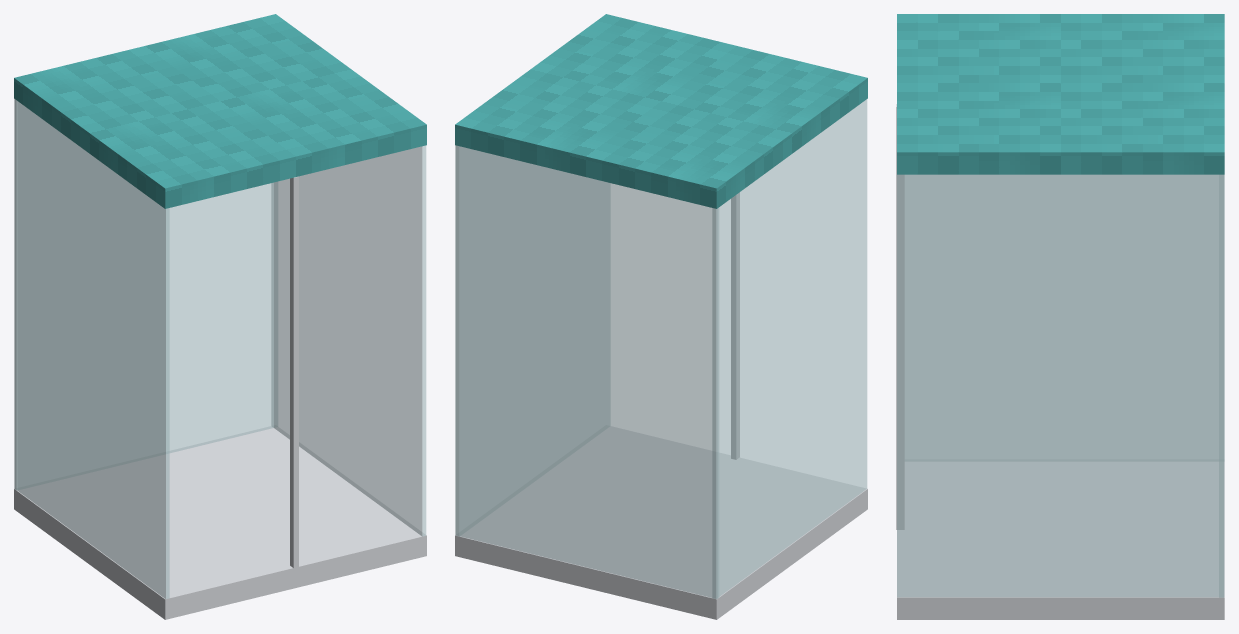
Rendered from retro-arcade-and-mall-1989-glass-elevator-1bf8a428.glb.
3 views of the same model, side by side, from view 1: azimuth 30°, elevation 25°; view 2: azimuth 150°, elevation 25°; view 3: azimuth 270°, elevation 25° (orthographic). The views are drawn at different scales.
Visible parts, largest first — view 1: glass-elevator; view 2: glass-elevator; view 3: glass-elevator.
Boxes of the visible parts, x1,y1,x2,y2 form: glass-elevator: (14, 14, 426, 619); glass-elevator: (455, 14, 867, 619); glass-elevator: (896, 14, 1224, 619).
Bounding box in the file's own units: 2 × 3.15 × 2.
3 materials, 1 textured.
